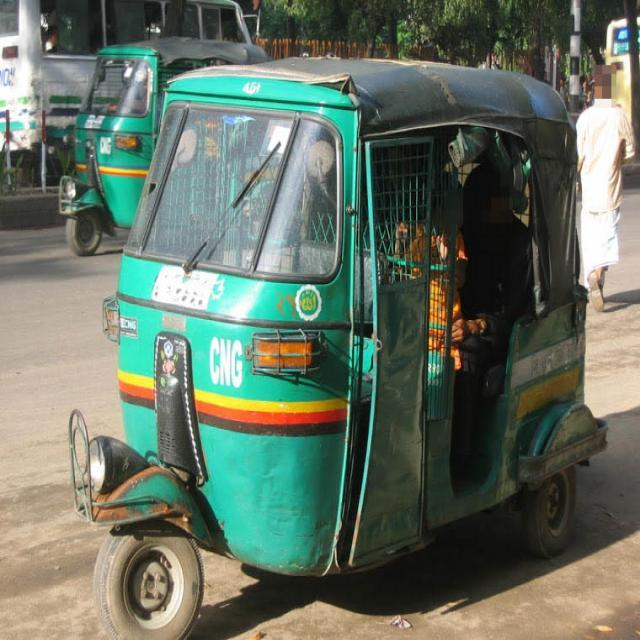CNG: (94, 37, 604, 635)
